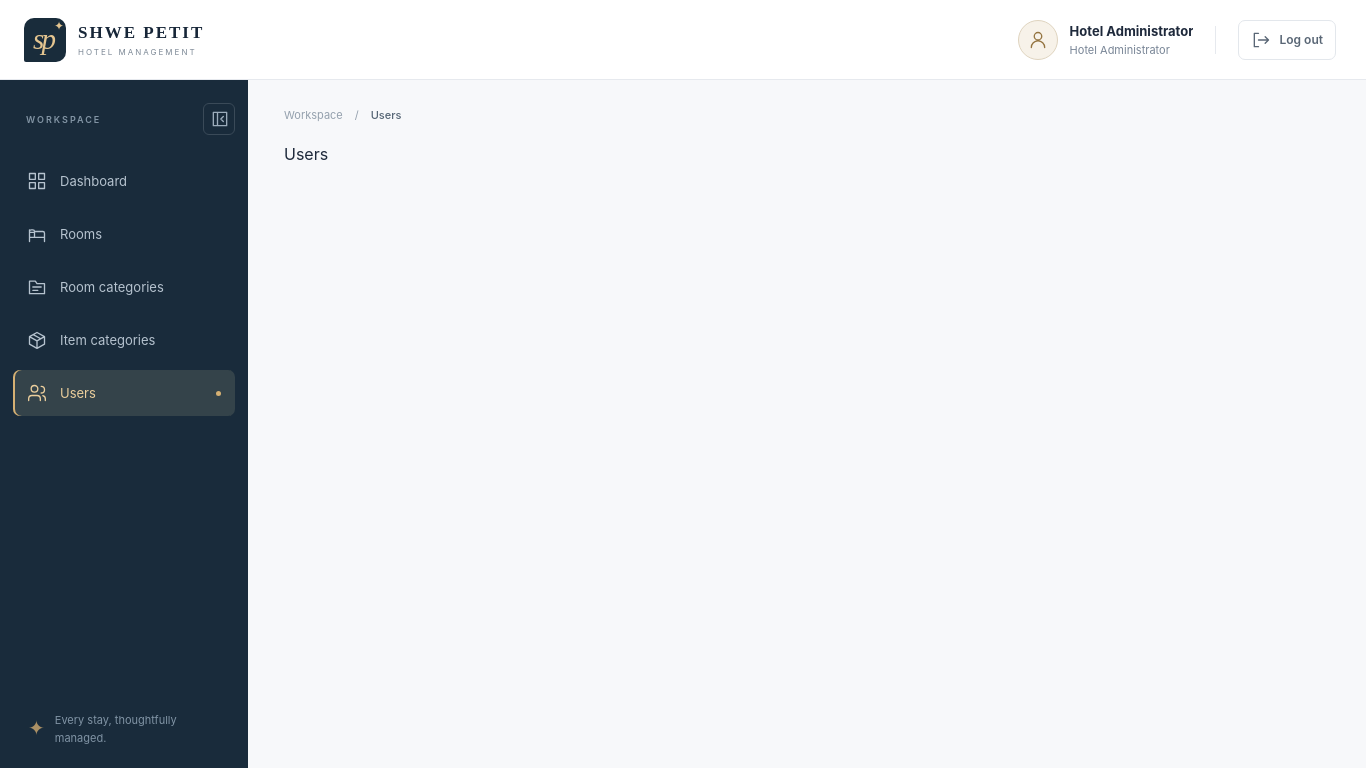
Test: admin navigation › collapses to accessible icons, persists the preference, and expands again
The width and height of the screenshot is (1366, 768).
Click the button named "Collapse sidebar" at (219, 119), box [203,103,235,135]
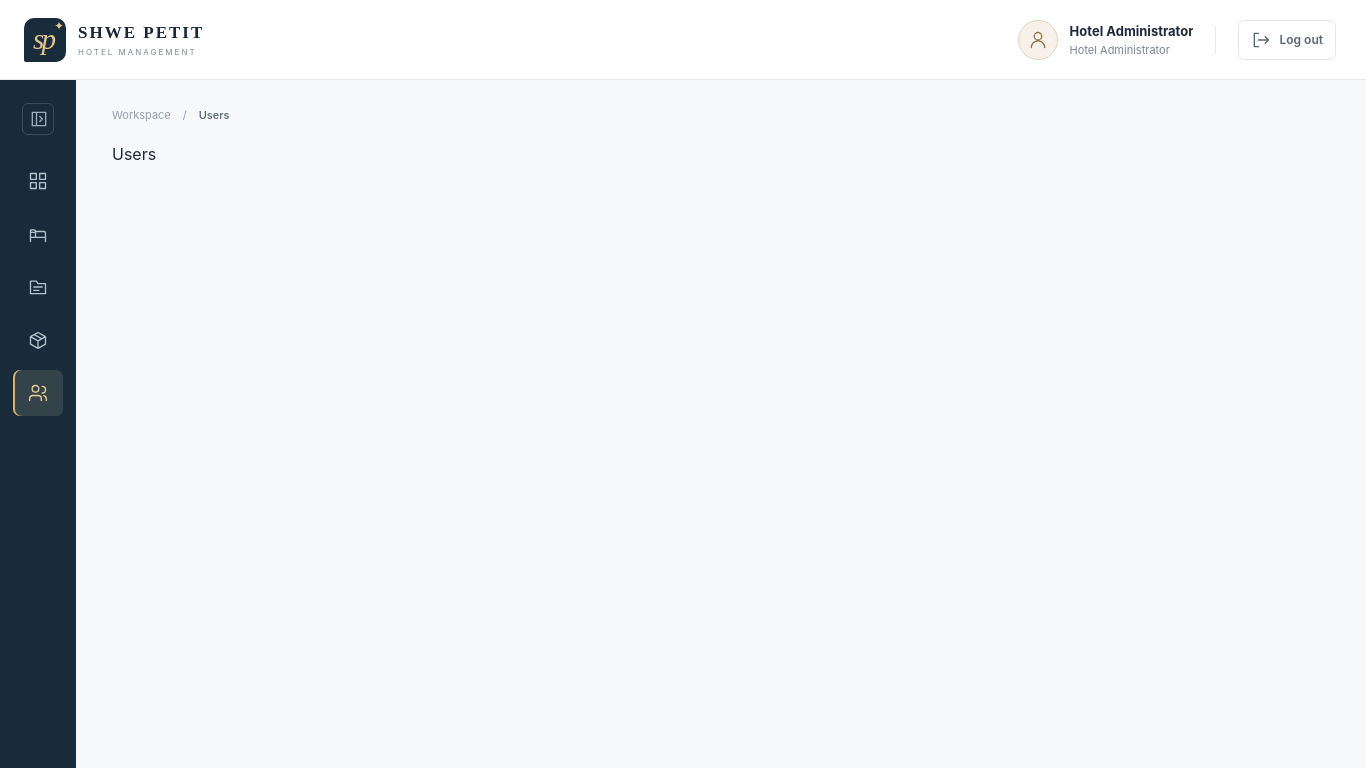
expect the button named "Expand sidebar" is collapsed: met
expect the link to "/users" is empty: met, box [13,370,63,416]
Click the button named "Expand sidebar" at (38, 119), box [22,103,54,135]
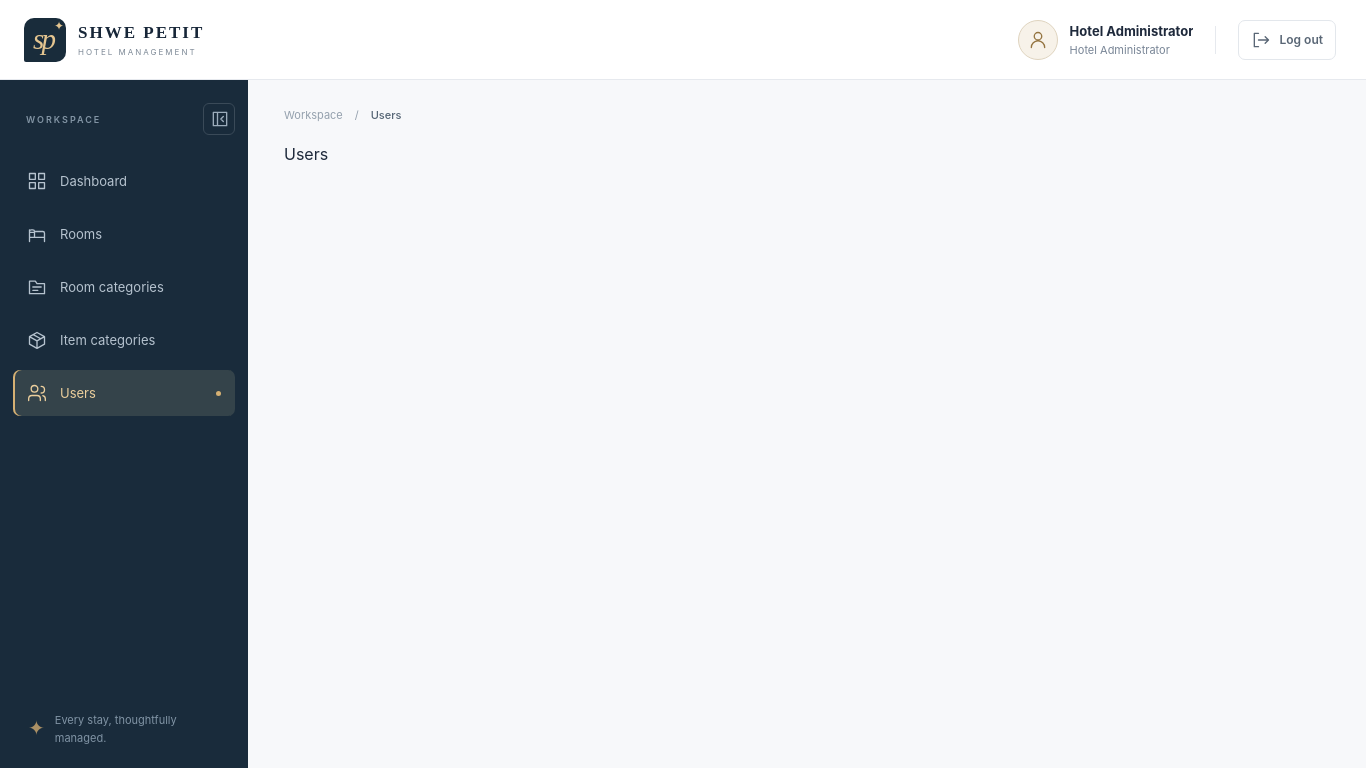
expect the link to "/users" is shown: met, box [13,370,235,416]
